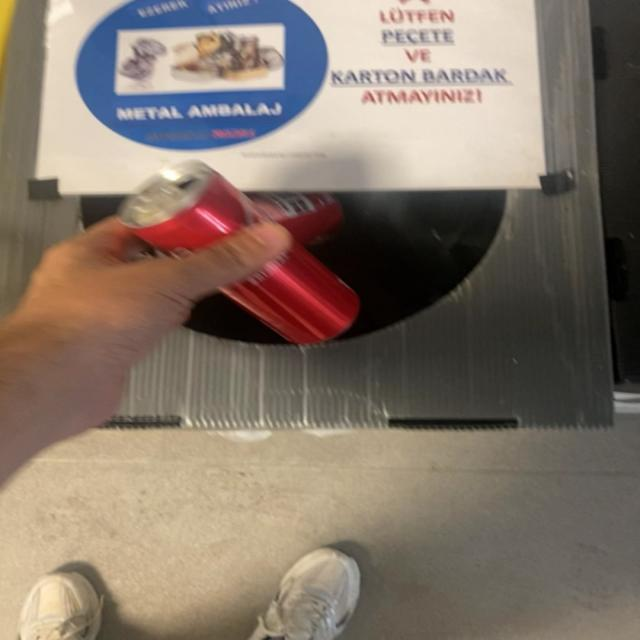Bin: (2, 0, 612, 430)
Metal: (119, 160, 359, 344)
